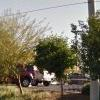Tree: (25, 28, 94, 84)
